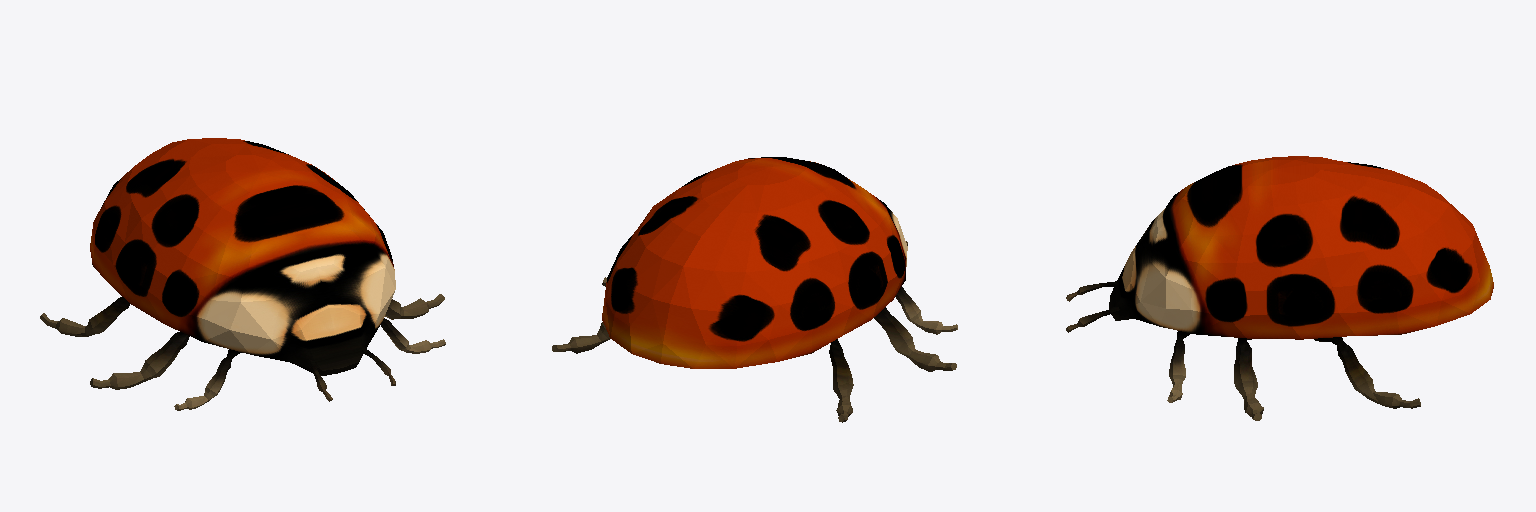
3 renders of one model, left to right at view 1: azimuth 30°, elevation 25°; view 2: azimuth 150°, elevation 25°; view 3: azimuth 270°, elevation 25°, orthographic.
Parts seen in each view (by area): view 1: ladybug; view 2: ladybug; view 3: ladybug.
Boxes of the visible parts, x1=… form: ladybug: x1=40, y1=138, x2=445, y2=410; ladybug: x1=552, y1=157, x2=957, y2=422; ladybug: x1=1066, y1=156, x2=1493, y2=420.
Bounding box in the file's own units: 48.56 × 22.62 × 51.12.
1 materials, 1 textured.